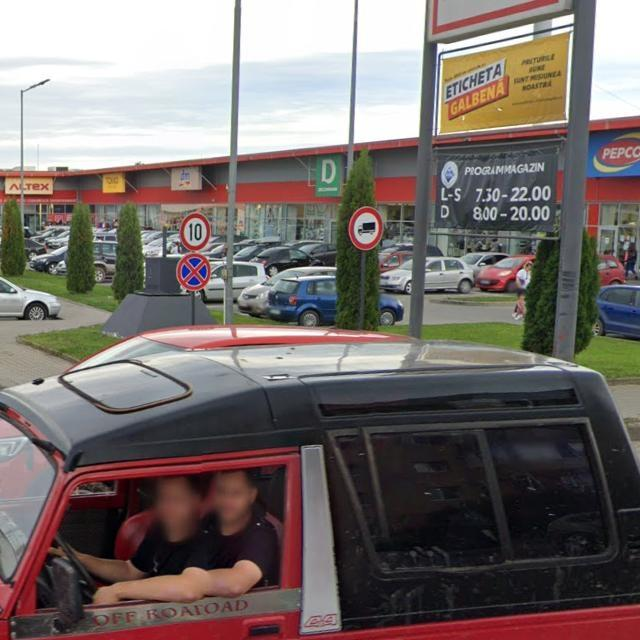forb_speed_over_10: (180, 212, 211, 252)
forb_waiting: (176, 253, 211, 291)
